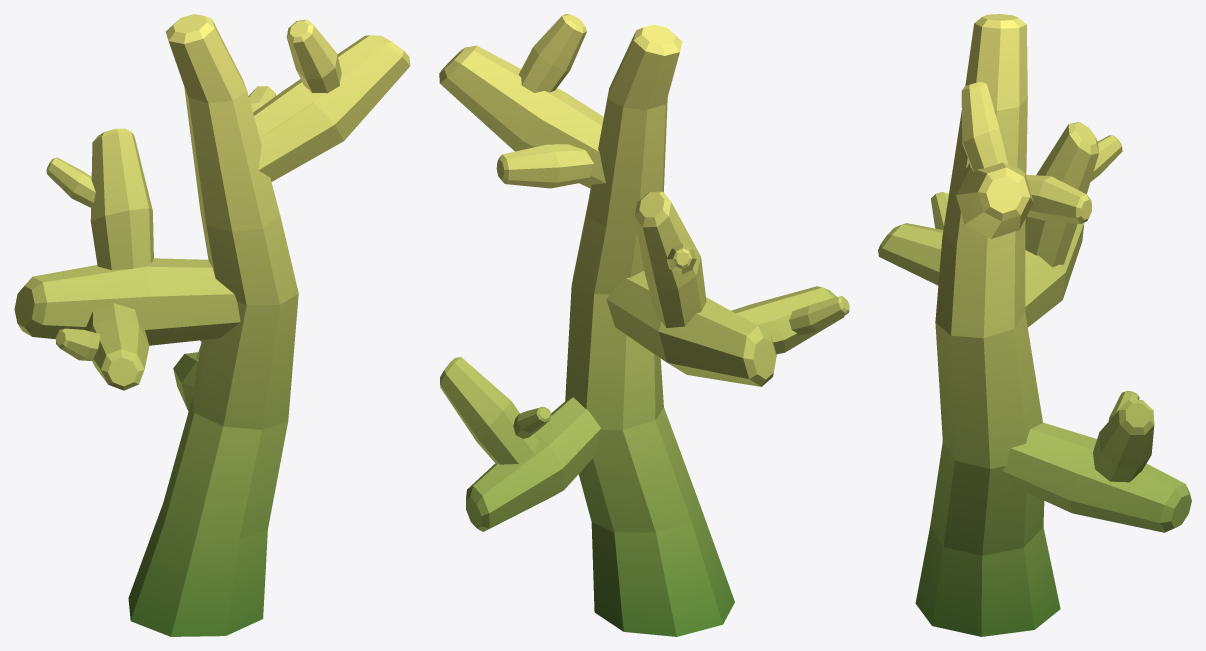
The model's file is Coral_04.fbx.
3 renders of one model, left to right at view 1: azimuth 30°, elevation 25°; view 2: azimuth 150°, elevation 25°; view 3: azimuth 270°, elevation 25°, orthographic. The views are drawn at different scales.
Visible parts, largest first — view 1: Coral_04; view 2: Coral_04; view 3: Coral_04.
Boxes of the visible parts, <box> form: Coral_04: <box>14,14,410,636</box>; Coral_04: <box>439,14,849,636</box>; Coral_04: <box>878,14,1191,636</box>.
Size of the model in its own units: 62.39 by 91.99 by 44.13.
1 material, 1 textured.
